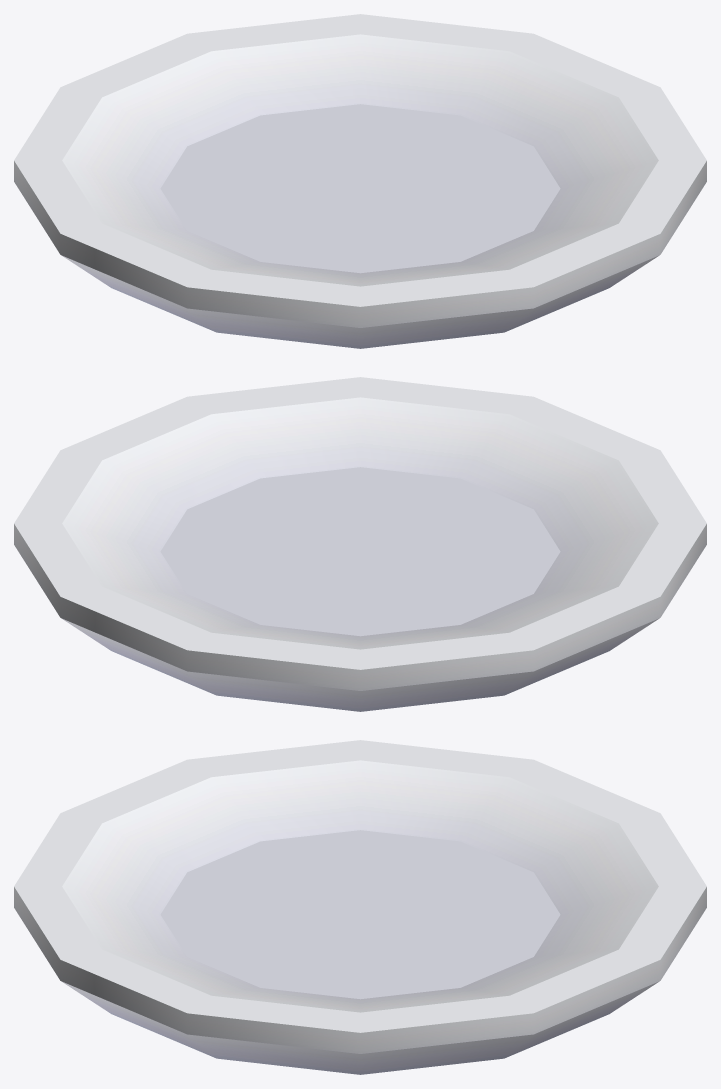
The model's file is cup-saucer.glb.
3 views of the same model, one above another, from view 1: azimuth 30°, elevation 25°; view 2: azimuth 150°, elevation 25°; view 3: azimuth 270°, elevation 25° (orthographic).
Visible parts, largest first — view 1: cup-saucer; view 2: cup-saucer; view 3: cup-saucer.
Boxes of the visible parts, x1,y1,x2,y2 form: cup-saucer: (14, 14, 706, 348); cup-saucer: (14, 377, 706, 711); cup-saucer: (14, 740, 706, 1074).
Bounding box in the file's own units: 0.3567 × 0.038 × 0.3567.
1 material, 1 textured.
